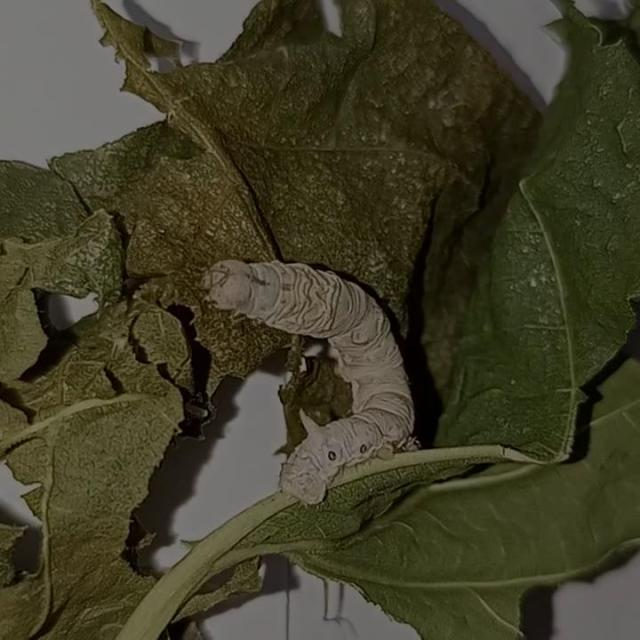Healthy: (156, 233, 464, 509)
